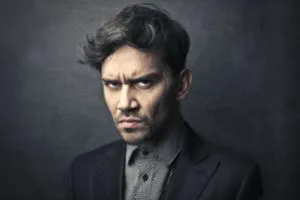person: (65, 2, 265, 200)
